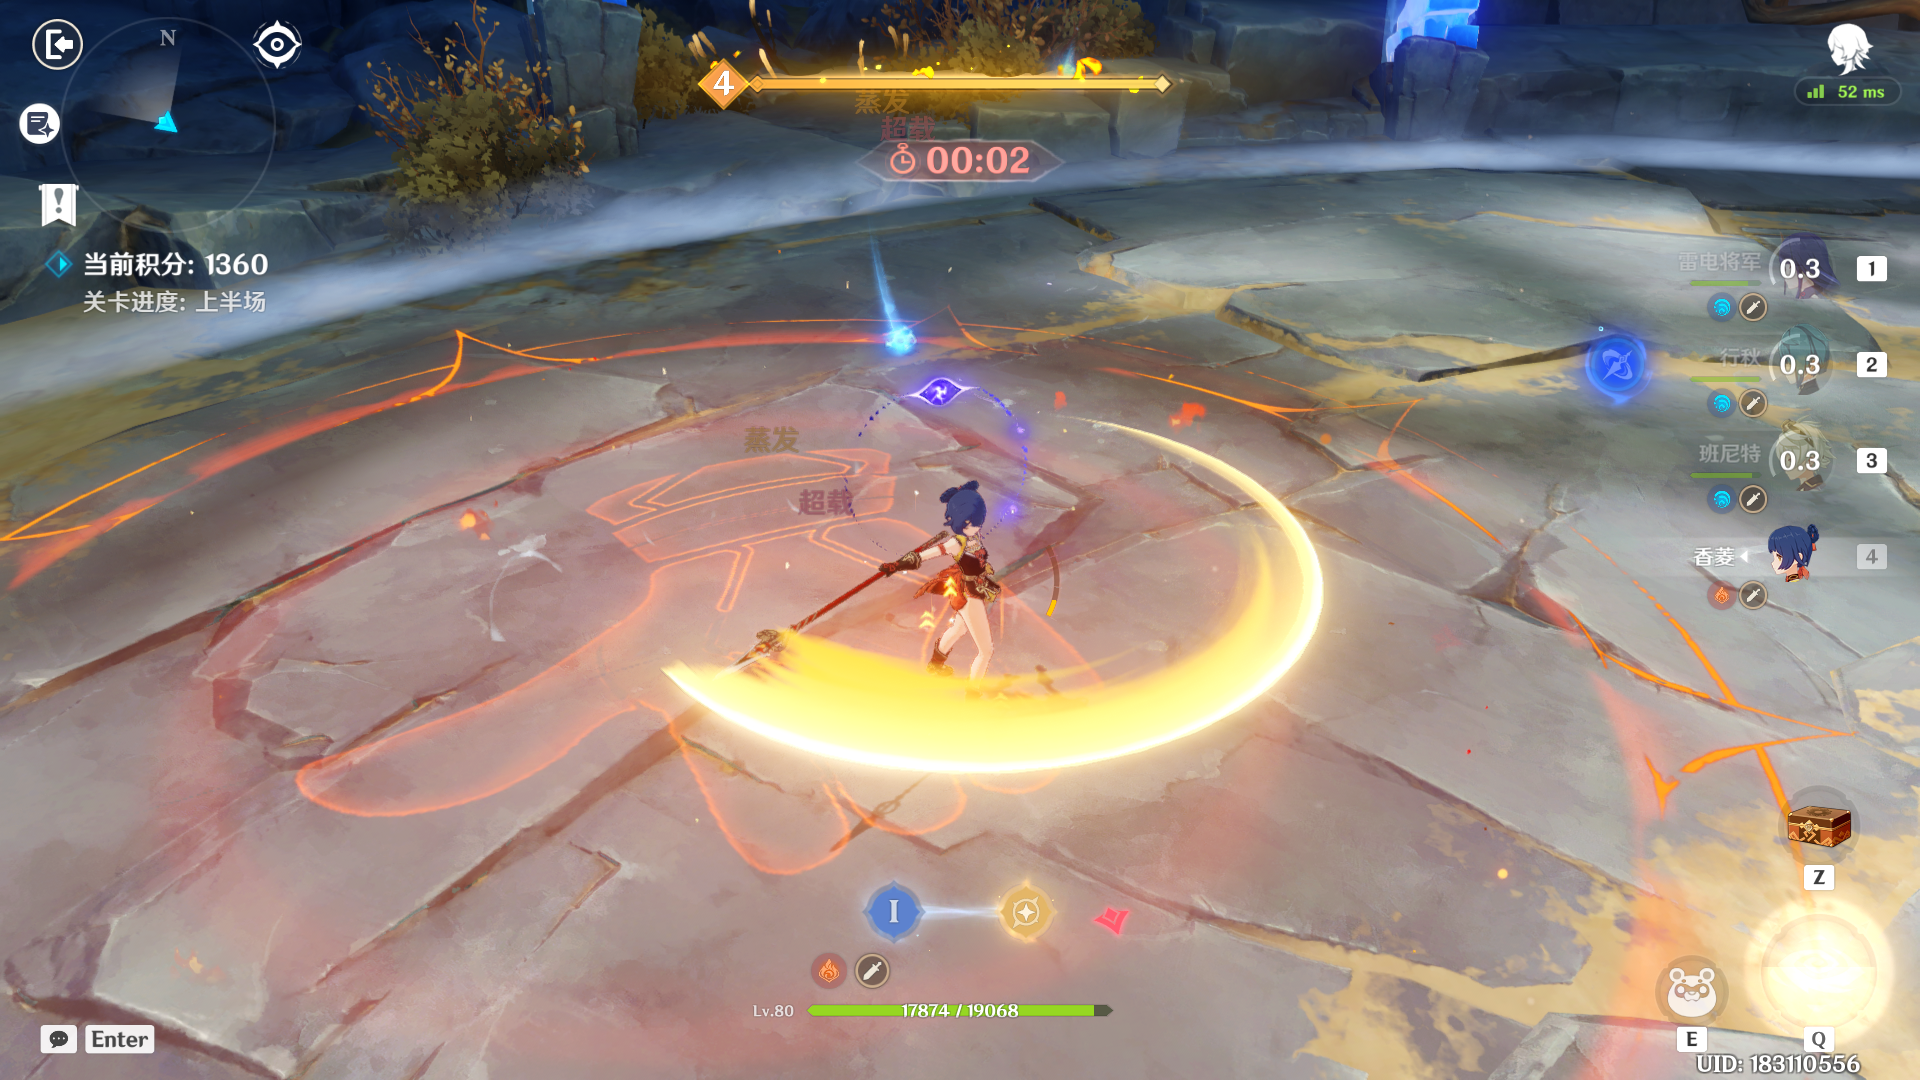character: (861, 460, 1036, 731)
